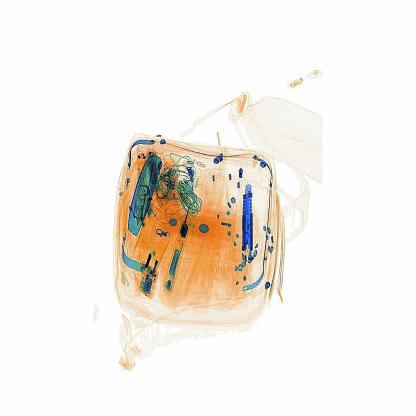pliers: (239, 180, 262, 260)
